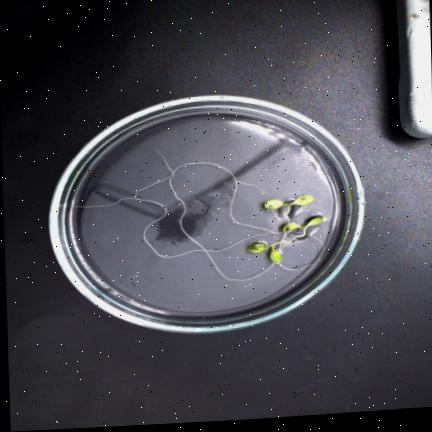leaf1: (304, 216, 323, 228)
leaf2: (282, 221, 301, 230)
leaf3: (291, 193, 313, 204)
leaf4: (263, 198, 286, 208)
leaf5: (246, 241, 268, 251)
leaf6: (270, 245, 282, 261)
root1: (155, 148, 294, 279)
root2: (136, 161, 292, 241)
root3: (59, 196, 285, 256), (276, 230, 324, 269)
stem1: (285, 204, 291, 221)
stem2: (294, 227, 305, 237)
stem3: (268, 238, 286, 246)
